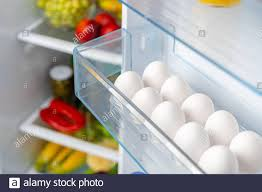eggs: (133, 57, 178, 106), (103, 63, 155, 103), (140, 81, 179, 131), (166, 73, 208, 119), (192, 97, 236, 140), (172, 99, 202, 159), (229, 124, 262, 163), (204, 137, 233, 180)
